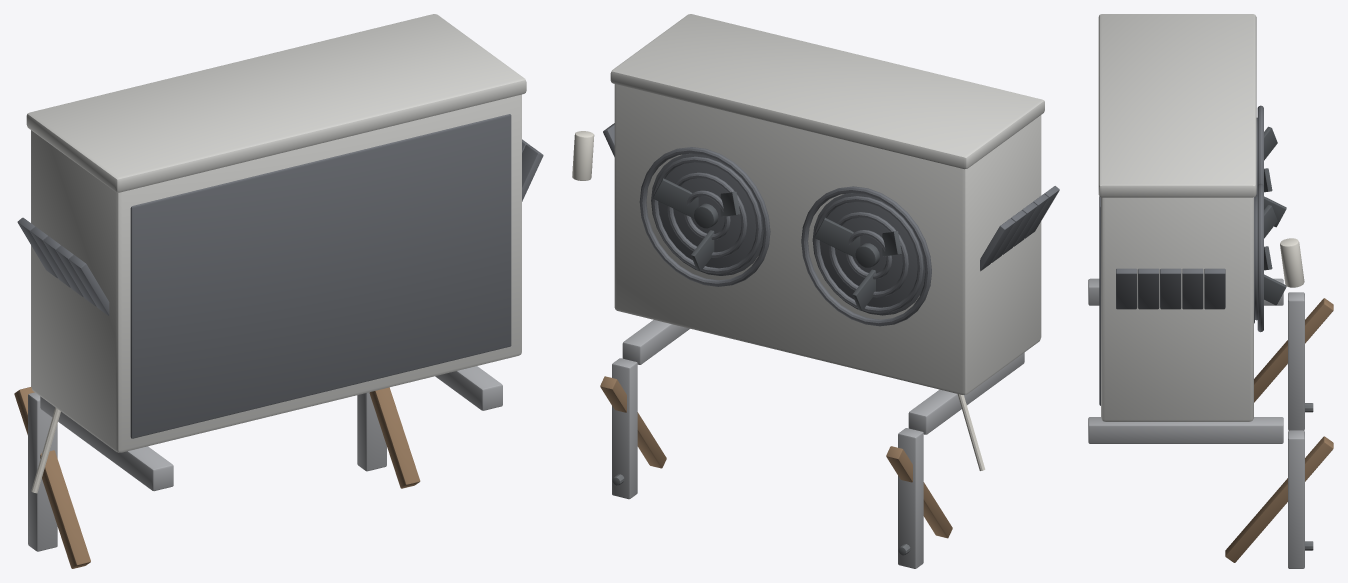
File: ac_unit_double.glb
3 views of the same model, side by side, from view 1: azimuth 30°, elevation 25°; view 2: azimuth 150°, elevation 25°; view 3: azimuth 270°, elevation 25° (orthographic). The views are drawn at different scales.
Visible parts, largest first — view 1: AC_Unit_Double; view 2: AC_Unit_Double; view 3: AC_Unit_Double.
Boxes of the visible parts, left/top/right/bottom form: AC_Unit_Double: left=14, top=14, right=543, bottom=568; AC_Unit_Double: left=572, top=14, right=1059, bottom=568; AC_Unit_Double: left=1088, top=14, right=1333, bottom=568.
Size of the model in its own units: 1.08 by 1.03 by 0.5776.
